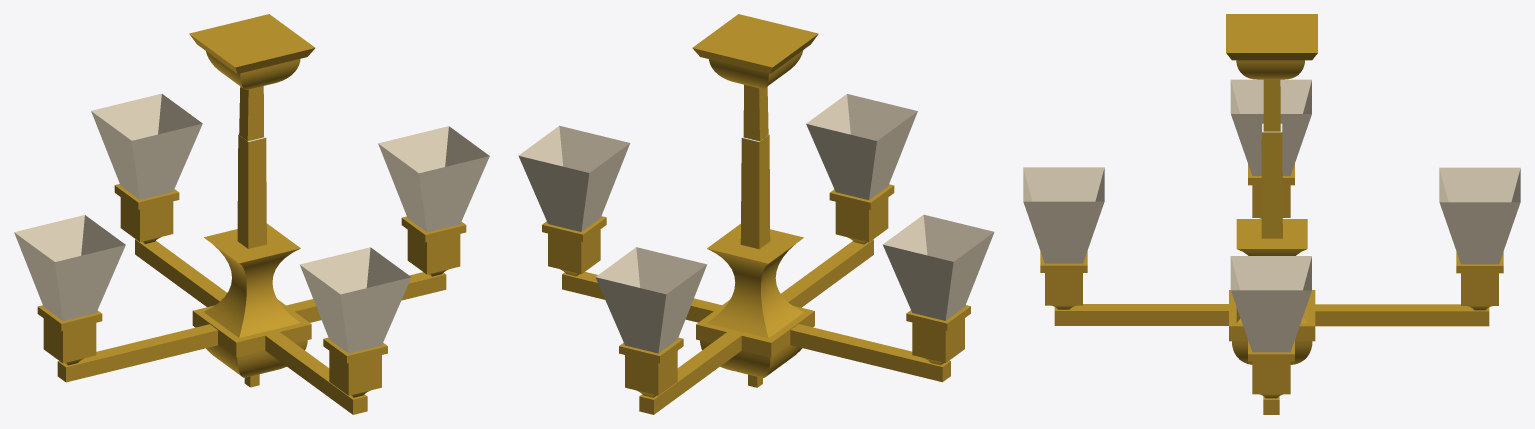
Rendered from Hanglamp.fbx.
The picture shows the model from 3 angles, left to right: view 1: azimuth 30°, elevation 25°; view 2: azimuth 150°, elevation 25°; view 3: azimuth 270°, elevation 25°; orthographic projection.
Visible parts, largest first — view 1: hallway_chandelier1; view 2: hallway_chandelier1; view 3: hallway_chandelier1.
Boxes of the visible parts, x1,y1,x2,y2 form: hallway_chandelier1: (14,14,489,414); hallway_chandelier1: (518,14,994,414); hallway_chandelier1: (1023,14,1520,414).
Bounding box in the file's own units: 581 × 439 × 580.
